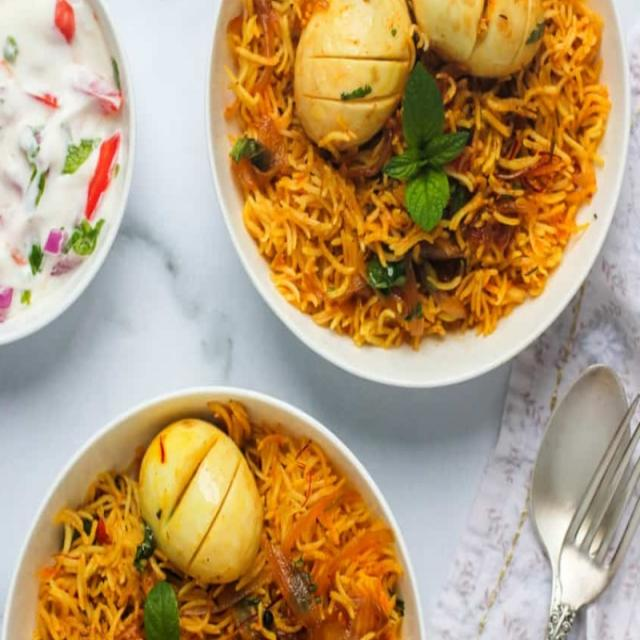Biryani: (216, 4, 610, 363), (25, 402, 418, 639)
